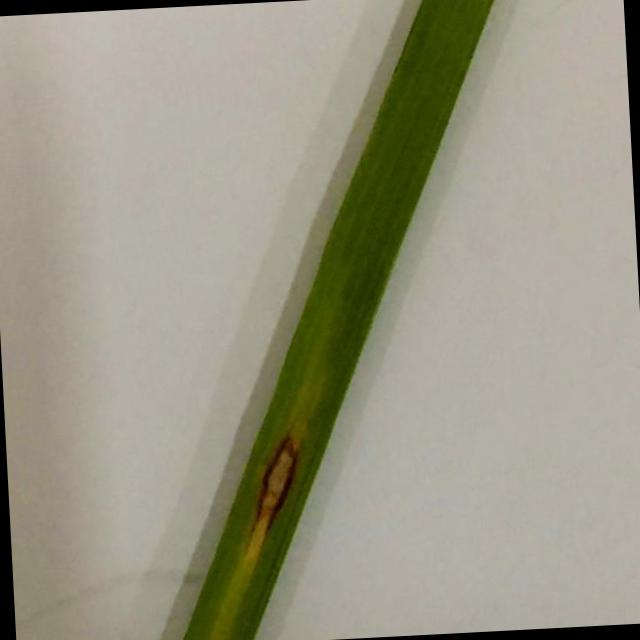Rice_Blast: (238, 426, 312, 536)
